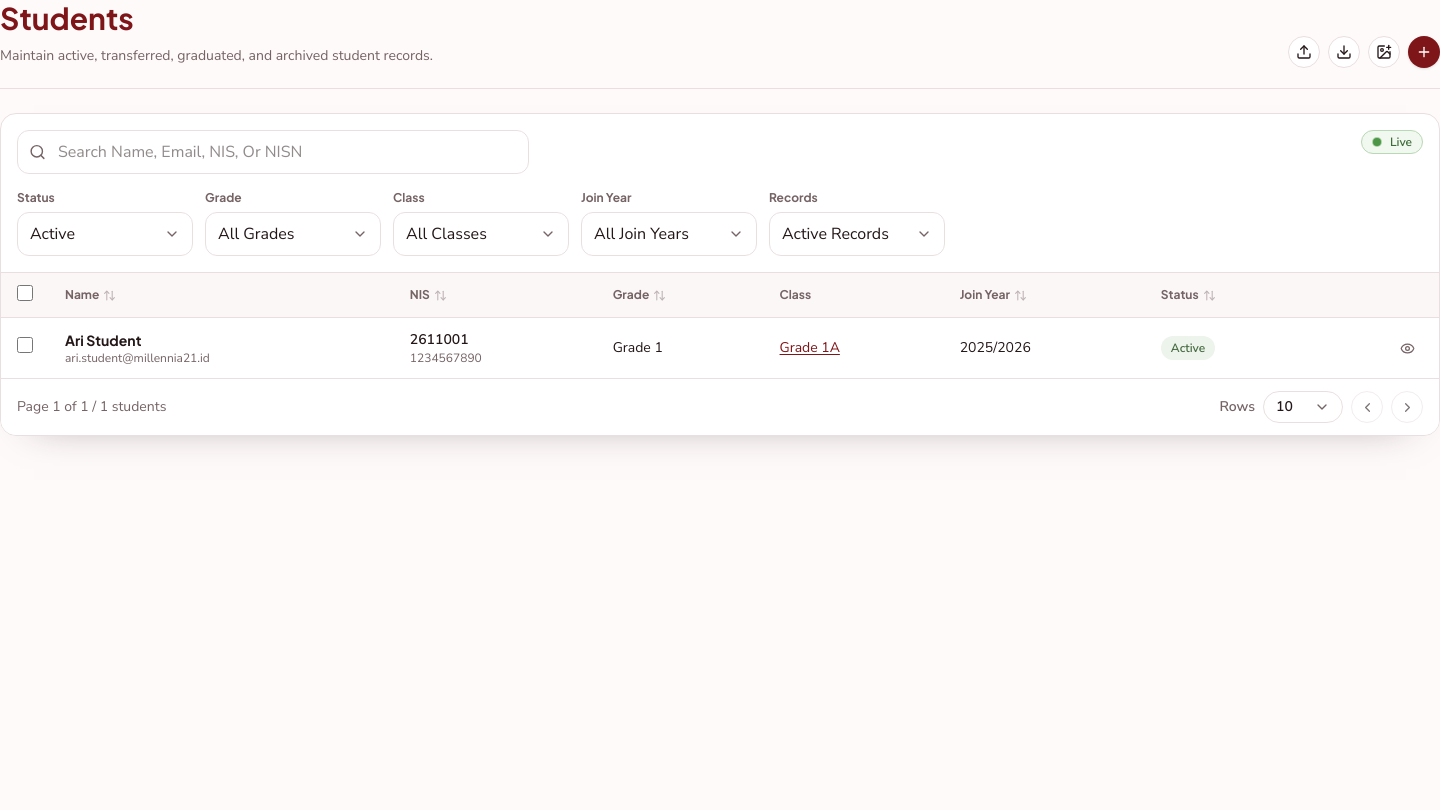
Test: StudentsPage › opens and closes the bulk photo dialog
Expected: the text "Ari Student" is shown, left=65, top=331, right=141, bottom=349
What coordinates should you click on to do the following:
click the button named "Bulk Photo Upload"
I would click on:
 (1384, 52)
Its box is left=1368, top=36, right=1400, bottom=68.
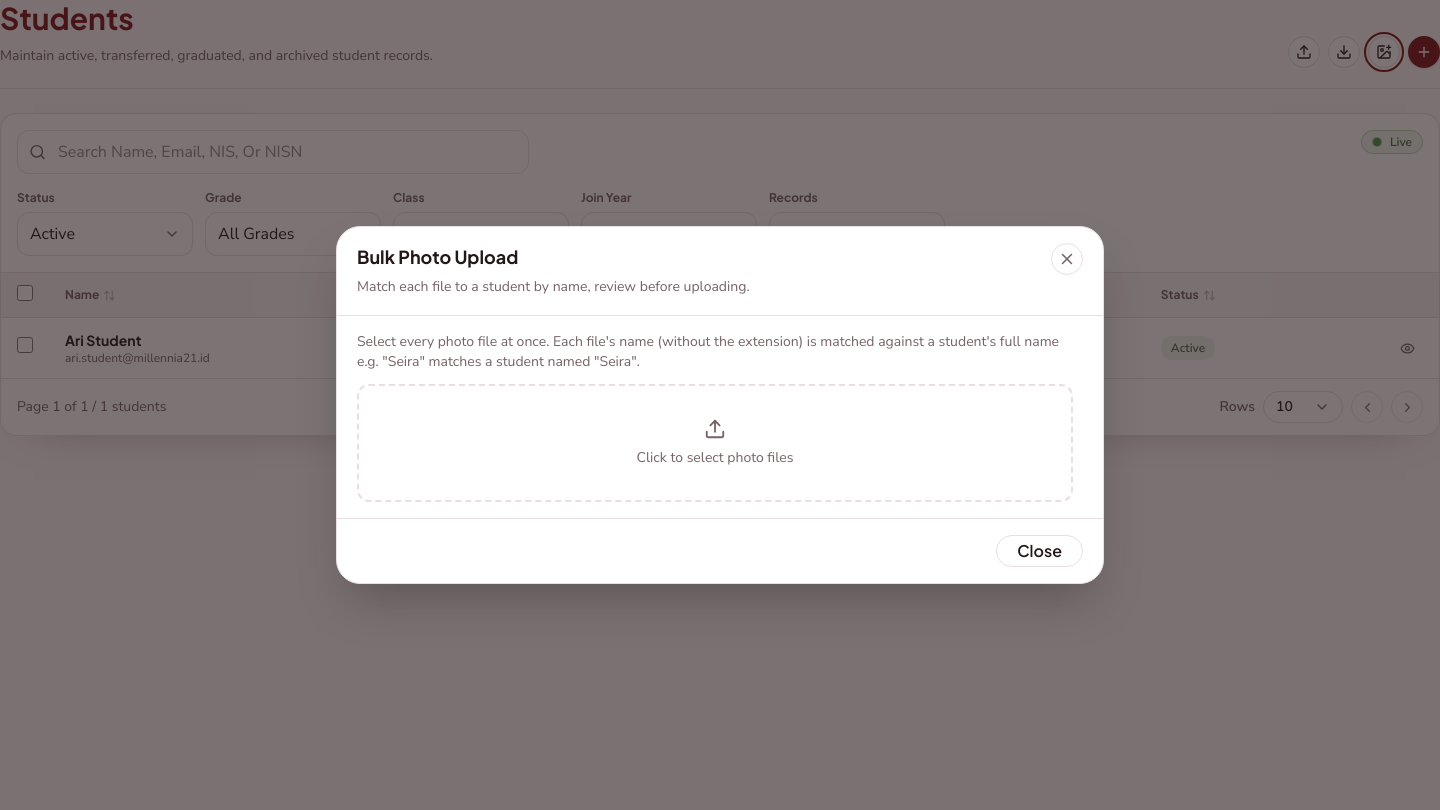
Now the dialog "Bulk Photo Upload" is shown, box left=336, top=226, right=1104, bottom=584
What coordinates should you click on to do the following:
click the button named "Close Dialog"
I would click on:
 (1067, 259)
Its box is left=1051, top=243, right=1083, bottom=275.
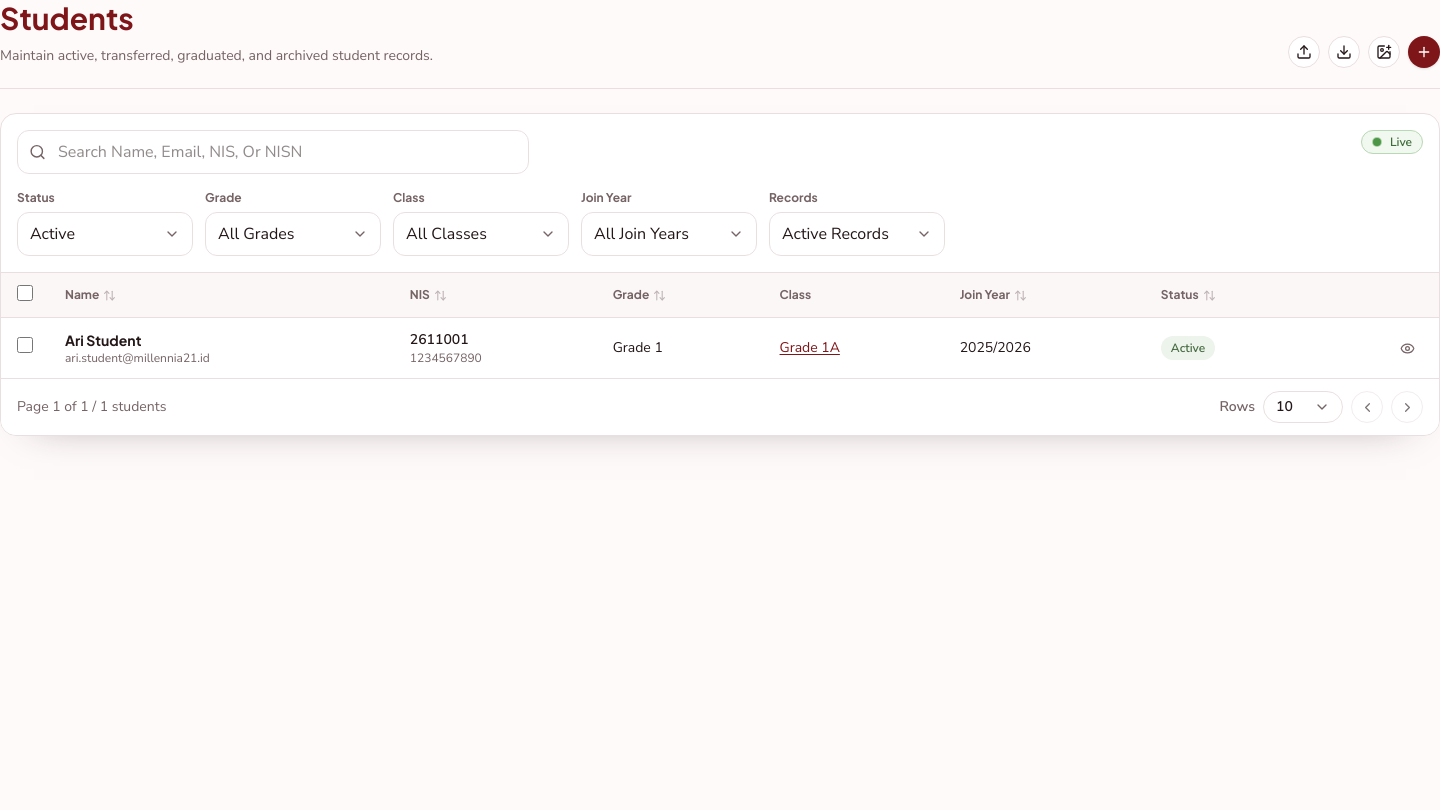
Now the heading "Bulk Photo Upload" is gone
